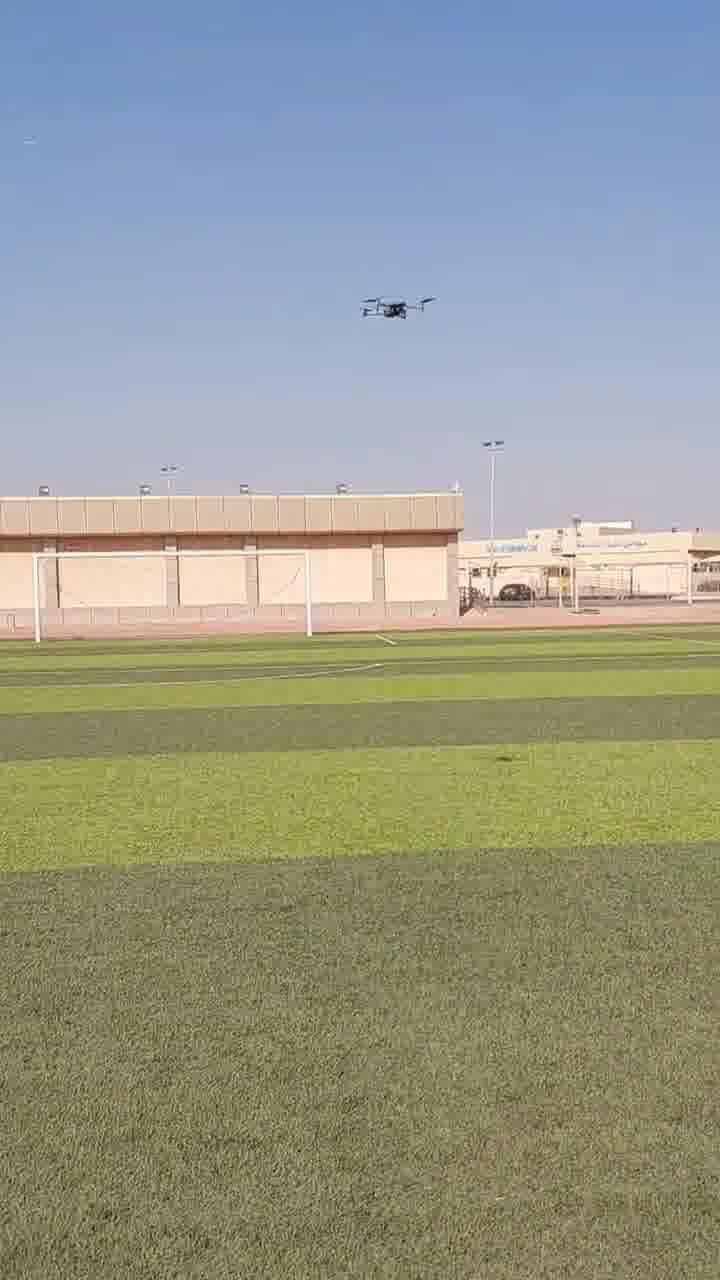drone: (348, 279, 441, 333)
